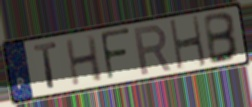B: (202, 11, 241, 67)
F: (98, 26, 132, 82)
H: (167, 14, 208, 72), (63, 33, 104, 88)
R: (131, 23, 174, 78)
T: (32, 40, 60, 91)
